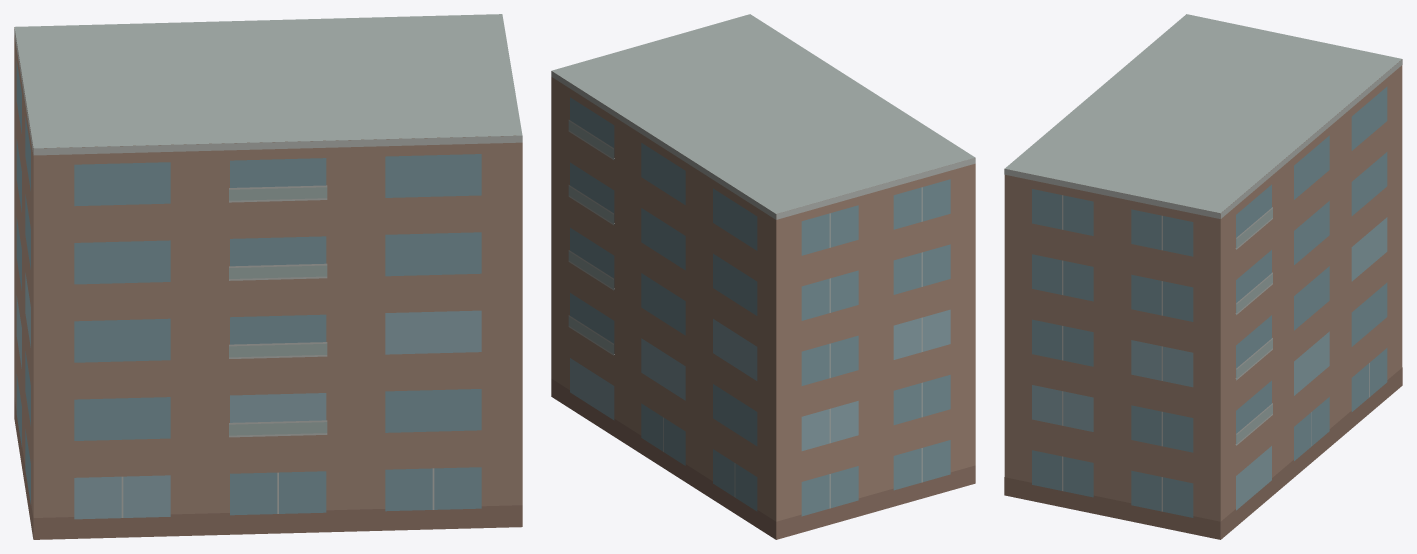
The model's file is survey-upis-32853527.glb.
3 renders of one model, left to right at view 1: azimuth 30°, elevation 25°; view 2: azimuth 150°, elevation 25°; view 3: azimuth 270°, elevation 25°, orthographic. The views are drawn at different scales.
Parts seen in each view (by area): view 1: survey-upis-32853527.tmp; view 2: survey-upis-32853527.tmp; view 3: survey-upis-32853527.tmp.
Boxes of the visible parts, x1=… form: survey-upis-32853527.tmp: x1=14, y1=14, x2=522, y2=539; survey-upis-32853527.tmp: x1=551, y1=14, x2=975, y2=539; survey-upis-32853527.tmp: x1=1004, y1=14, x2=1402, y2=539.
Bounding box in the file's own units: 17.6 × 13.45 × 14.86.
